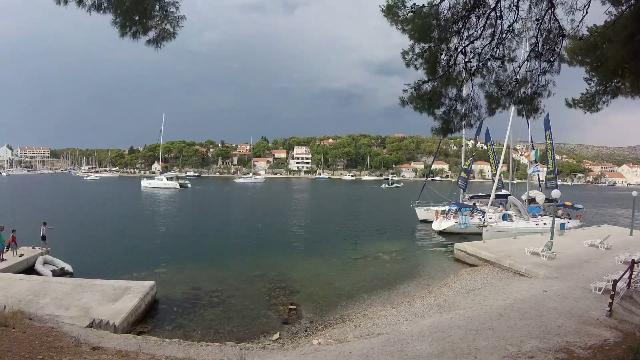Sailboat: (134, 170, 196, 190), (232, 168, 268, 185), (82, 173, 104, 183)
speedboat: (379, 178, 407, 190)
